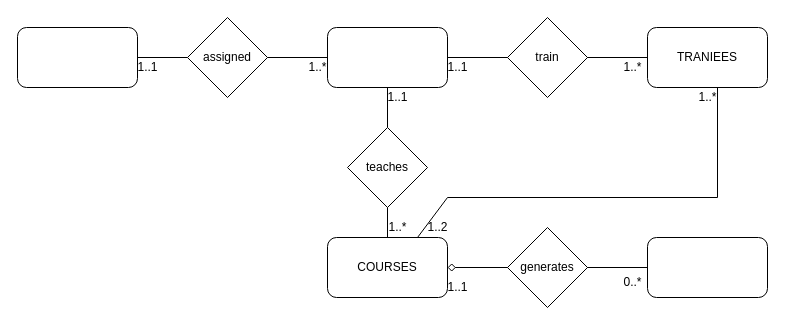
The diagram is 785 pixels wide and 325 high, and some of its shapes have lost their labels. The centre of each missing label's shape, as x and y in pixels:
"CLASS" belongs at pixel 707 267.
"INSTRUCTORS" belongs at pixel 387 57.
"RESEARCH" belongs at pixel 77 57.
